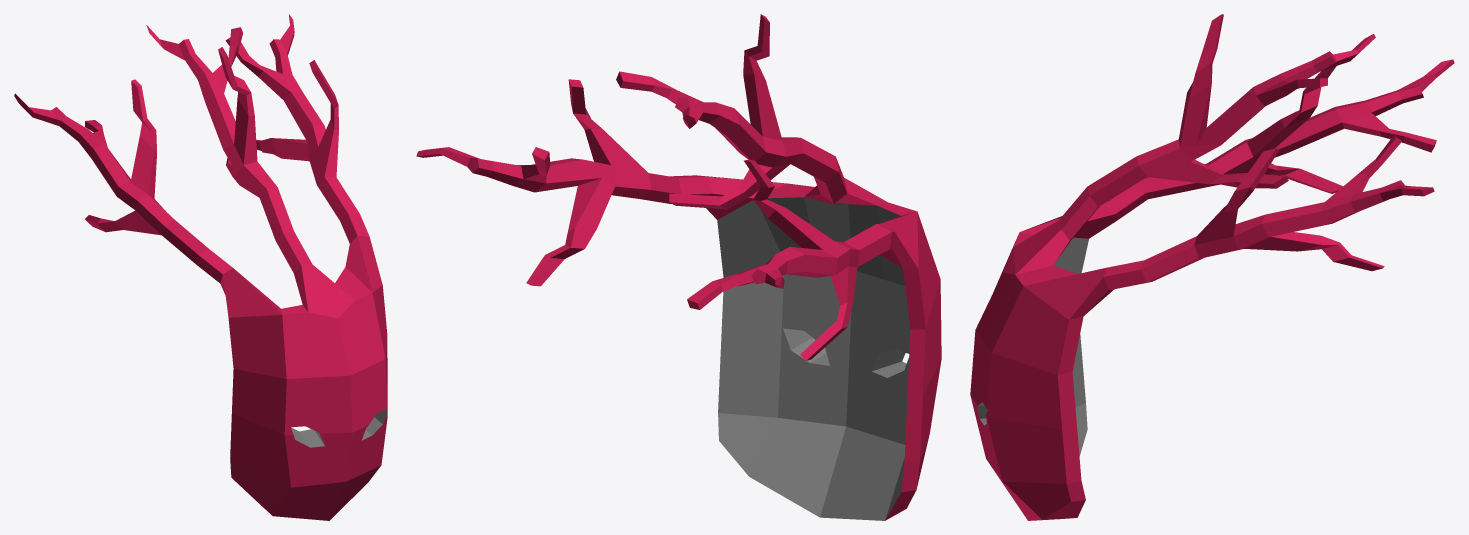
The model's file is neuron_mask.fbx.
3 views of the same model, side by side, from view 1: azimuth 30°, elevation 25°; view 2: azimuth 150°, elevation 25°; view 3: azimuth 270°, elevation 25° (orthographic). The views are drawn at different scales.
Parts seen in each view (by area): view 1: Cylinder; view 2: Cylinder; view 3: Cylinder.
Boxes of the visible parts, <box> form: Cylinder: <box>14,14,387,520</box>; Cylinder: <box>416,14,941,520</box>; Cylinder: <box>970,14,1454,520</box>.
Bounding box in the file's own units: 35.52 × 53.49 × 47.63.
